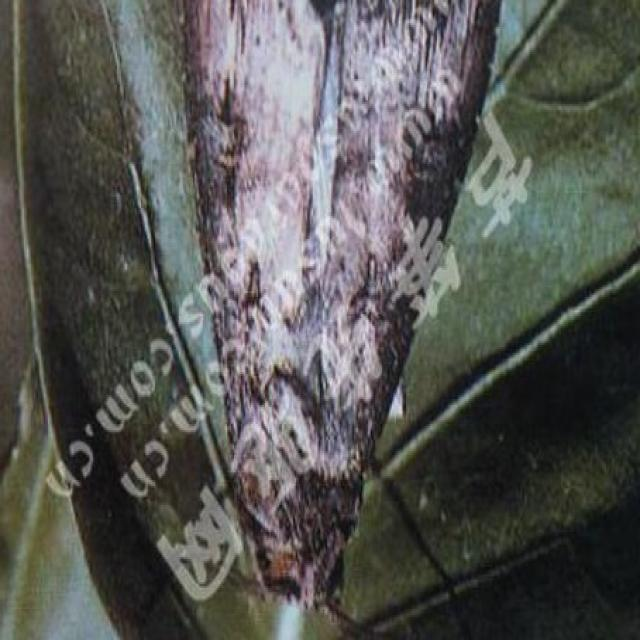black cutworm: (153, 2, 507, 617)
